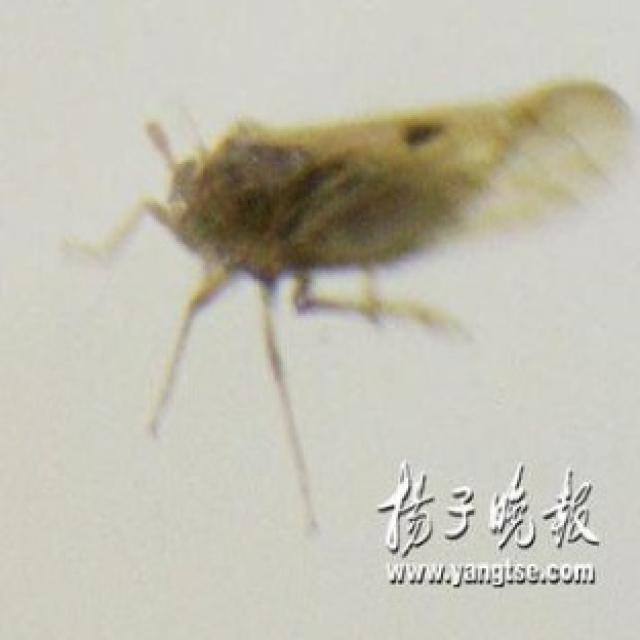brown plant hopper: (68, 78, 630, 470)
